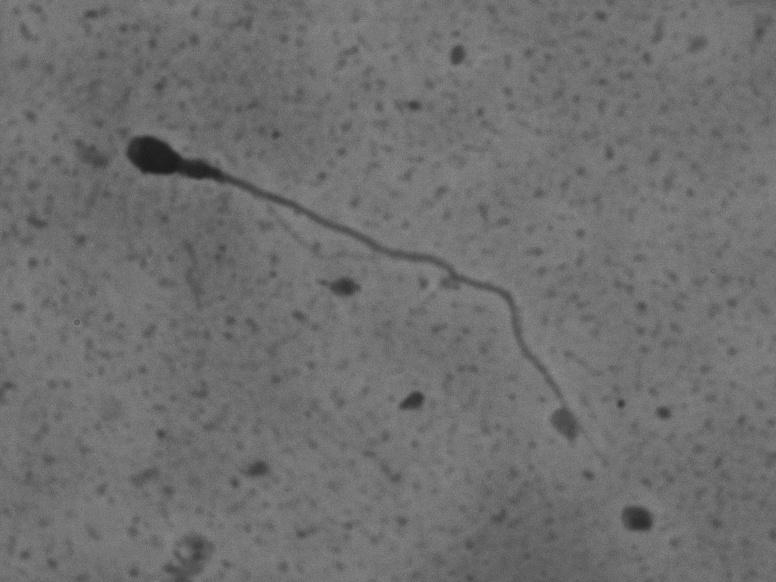Abnormal: (94, 101, 608, 447)
